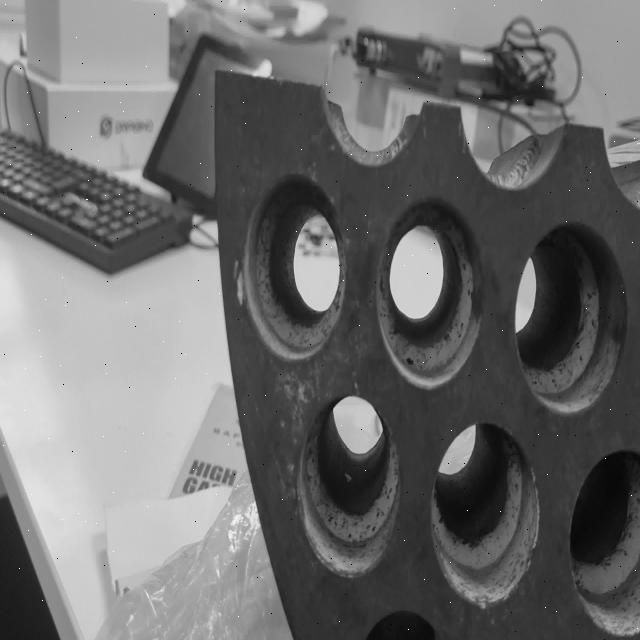Hole: (514, 219, 628, 414), (375, 195, 485, 389), (236, 172, 348, 361), (432, 420, 540, 608), (296, 394, 401, 580), (568, 447, 640, 637)
